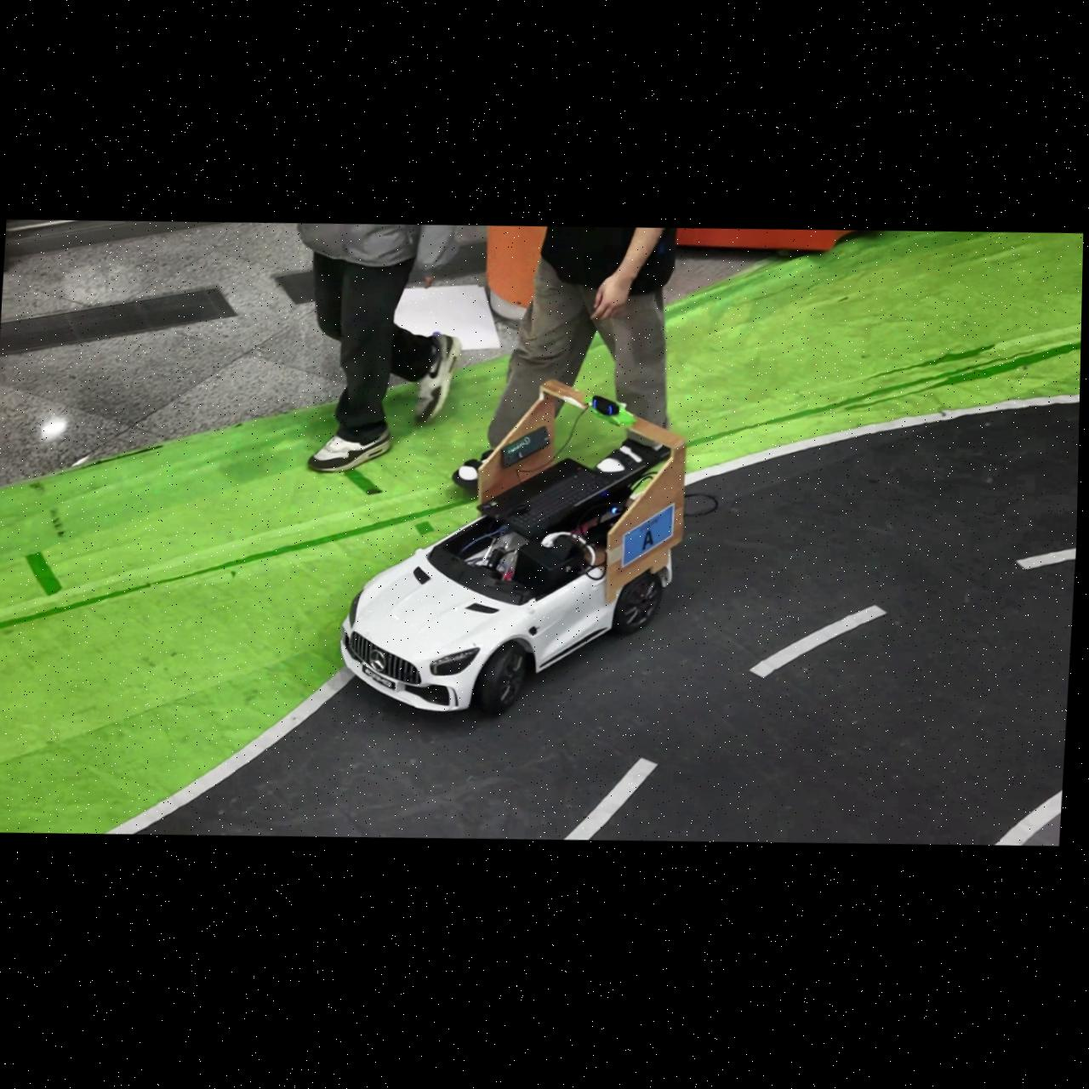broken_line: (748, 605, 887, 677), (564, 757, 658, 839), (1015, 548, 1075, 569)
